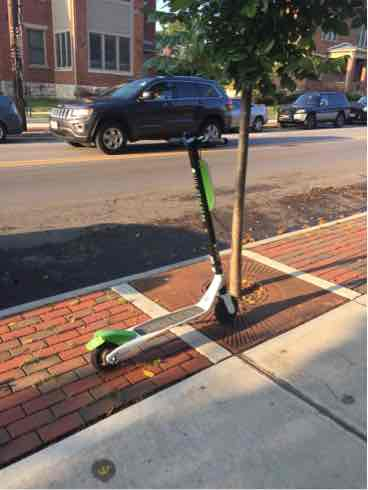scooter: (85, 120, 242, 374)
